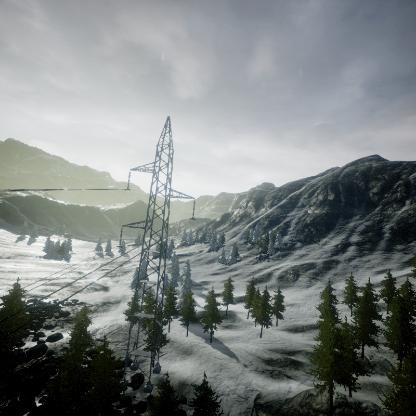tower: (115, 114, 201, 387)
